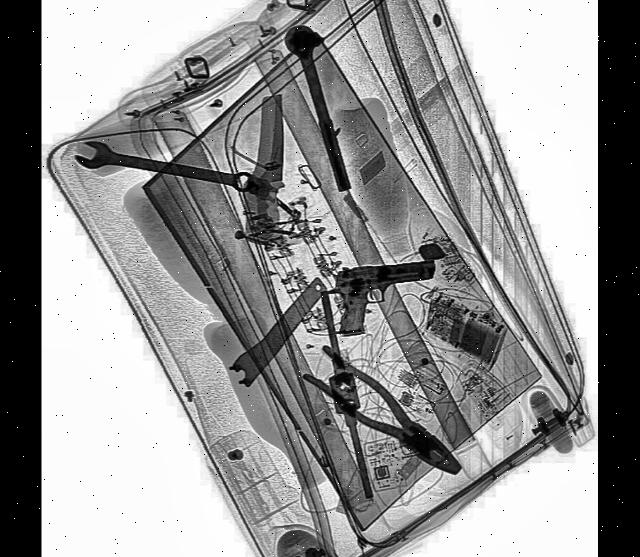Gun: (330, 259, 439, 340)
Pliers: (300, 338, 470, 496)
Wrench: (72, 138, 256, 198)
